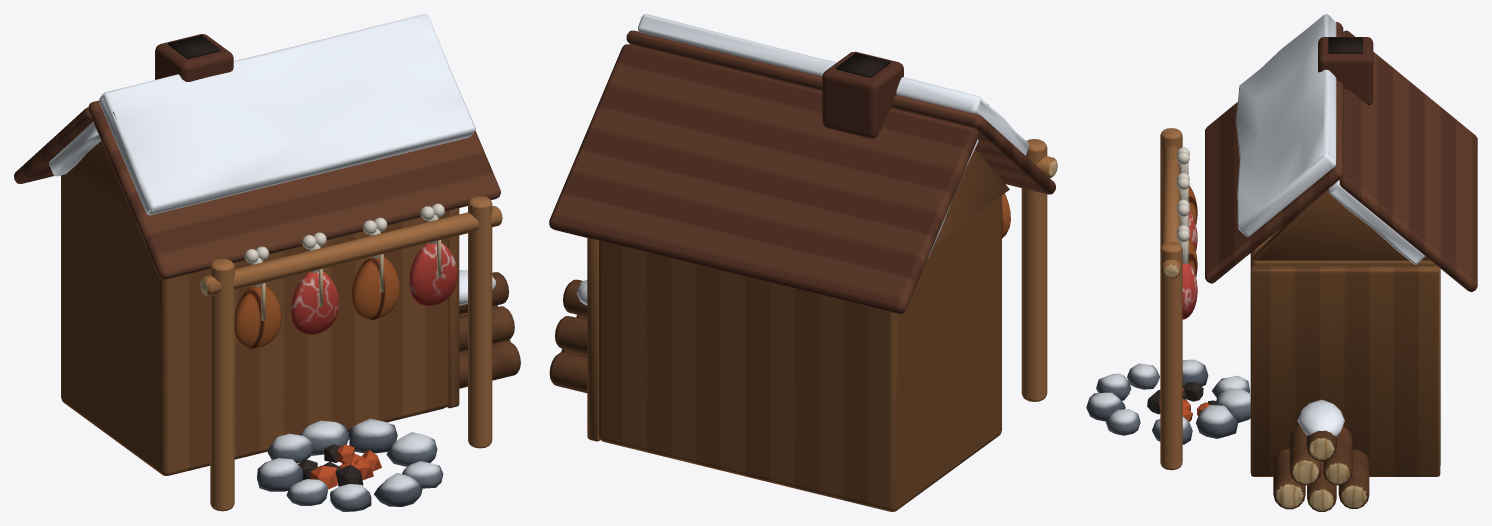
The model's file is station_smokehouse.glb.
3 renders of one model, left to right at view 1: azimuth 30°, elevation 25°; view 2: azimuth 150°, elevation 25°; view 3: azimuth 270°, elevation 25°, orthographic. The views are drawn at different scales.
Parts seen in each view (by area): view 1: bar; view 2: bar; view 3: bar.
Part boxes in pixels (bbox=[...]): bar: bbox=[14, 14, 520, 511]; bar: bbox=[549, 14, 1057, 511]; bar: bbox=[1086, 14, 1477, 511].
Size of the model in its own units: 2.69 by 2.43 by 2.47.
Materials: 1 (1 with a texture image).
